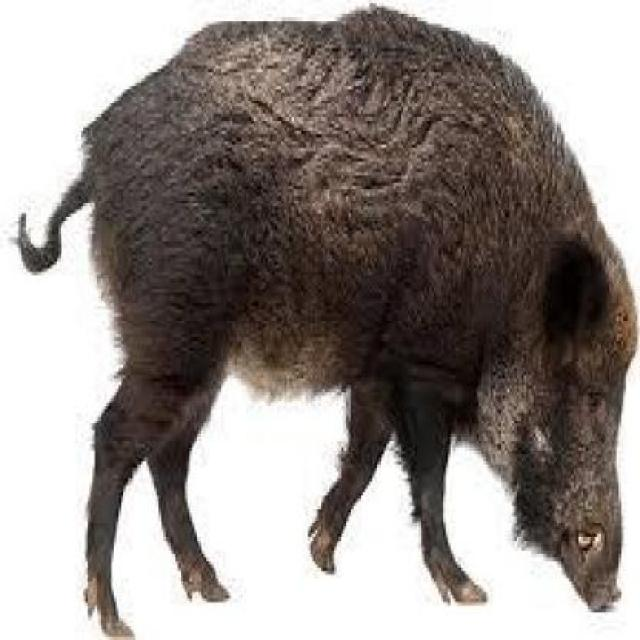wildboar: (14, 3, 640, 640)
